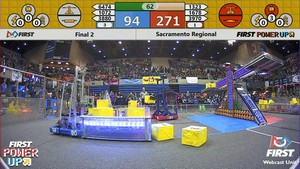cube: (178, 126, 207, 147), (152, 124, 173, 140), (90, 108, 114, 118), (129, 107, 145, 119), (94, 97, 109, 108), (204, 82, 217, 91), (128, 100, 137, 109), (144, 95, 150, 100)
